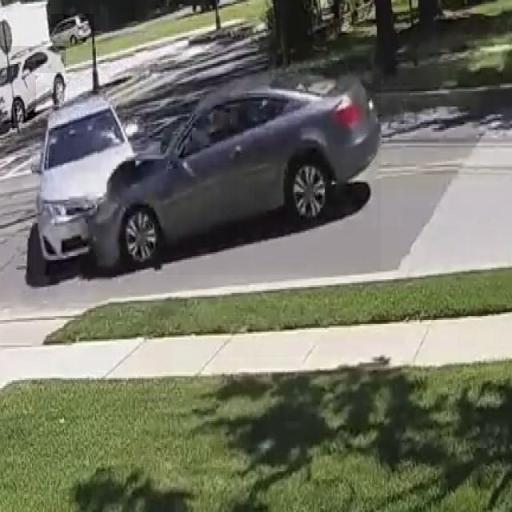小汽车: (0, 46, 66, 123), (51, 14, 94, 43)
小汽车撞小汽车: (36, 73, 381, 275)
